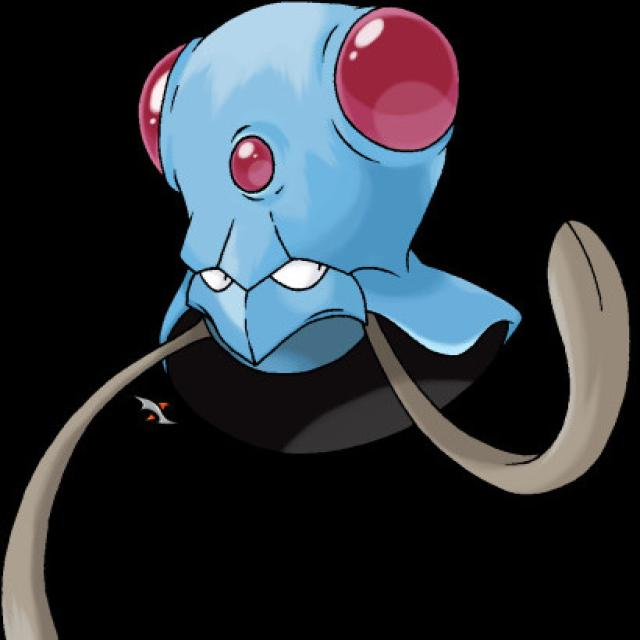Tentacool: (109, 0, 523, 485)
